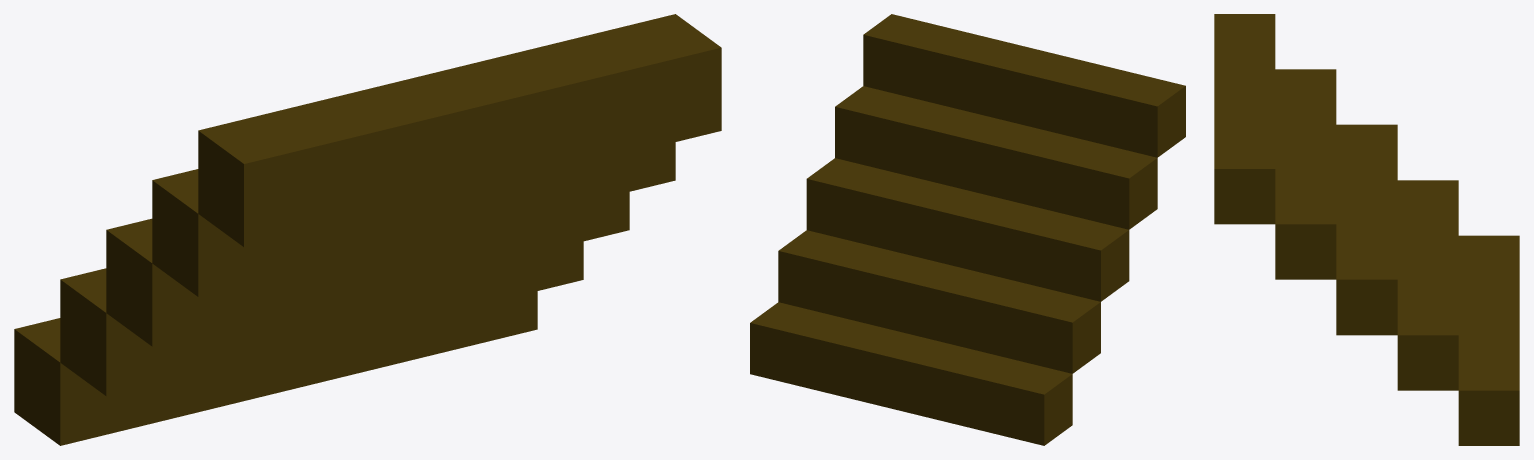
File: obj_steps_0.obj
The picture shows the model from 3 angles, left to right: view 1: azimuth 30°, elevation 25°; view 2: azimuth 150°, elevation 25°; view 3: azimuth 270°, elevation 25°; orthographic projection. The views are drawn at different scales.
Bounding box in the file's own units: 6 × 5 × 5.
